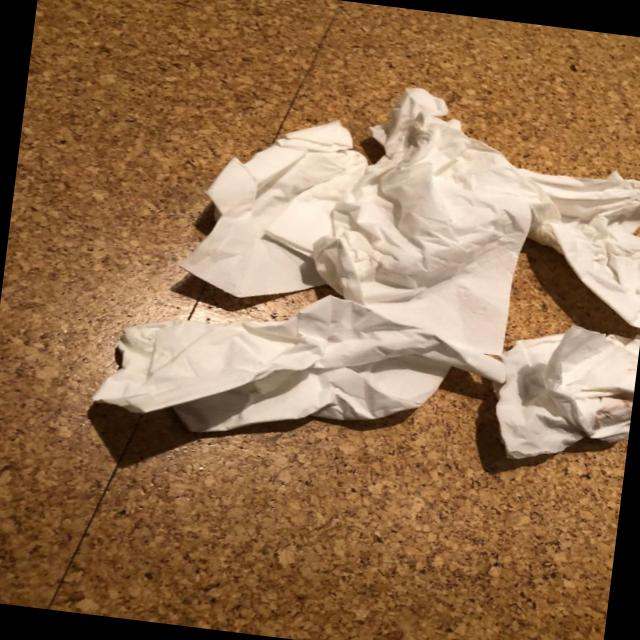organic waste: (297, 80, 549, 386), (88, 275, 458, 467), (171, 95, 369, 311), (473, 322, 640, 475), (504, 156, 640, 328)
